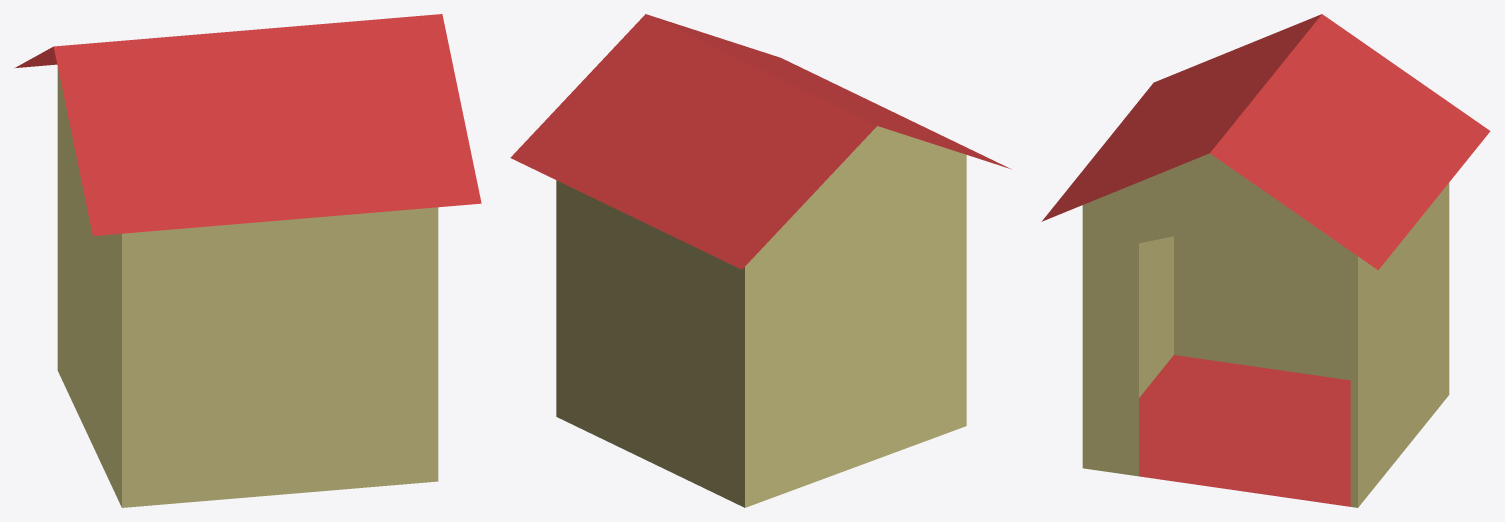
3 renders of one model, left to right at view 1: azimuth 30°, elevation 25°; view 2: azimuth 150°, elevation 25°; view 3: azimuth 270°, elevation 25°, orthographic. The views are drawn at different scales.
Size of the model in its own units: 13.71 by 13.86 by 11.84.
